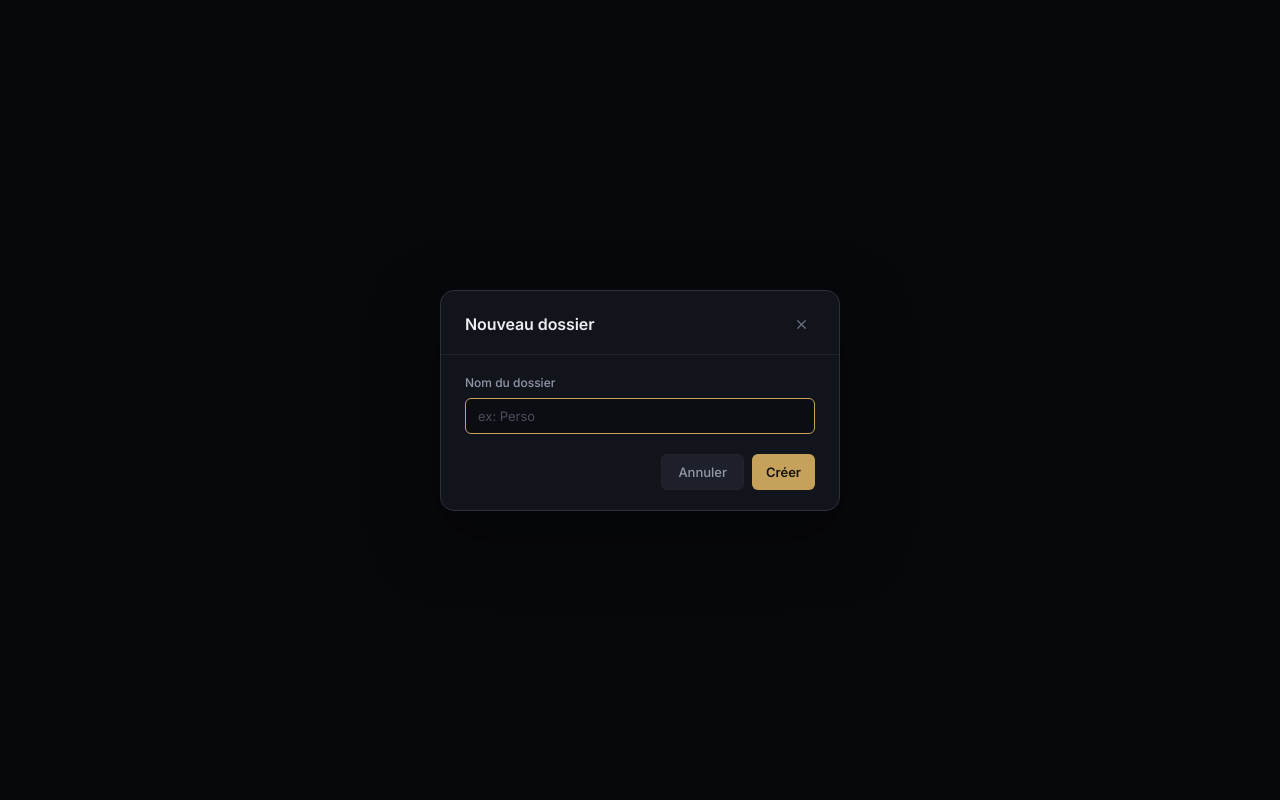
Test case: FolderModal › keeps the dialog open with the error when saving fails
Step 1. Type "Banque" into the field labelled "Nom du dossier" → [640, 416], box [465, 398, 815, 434]
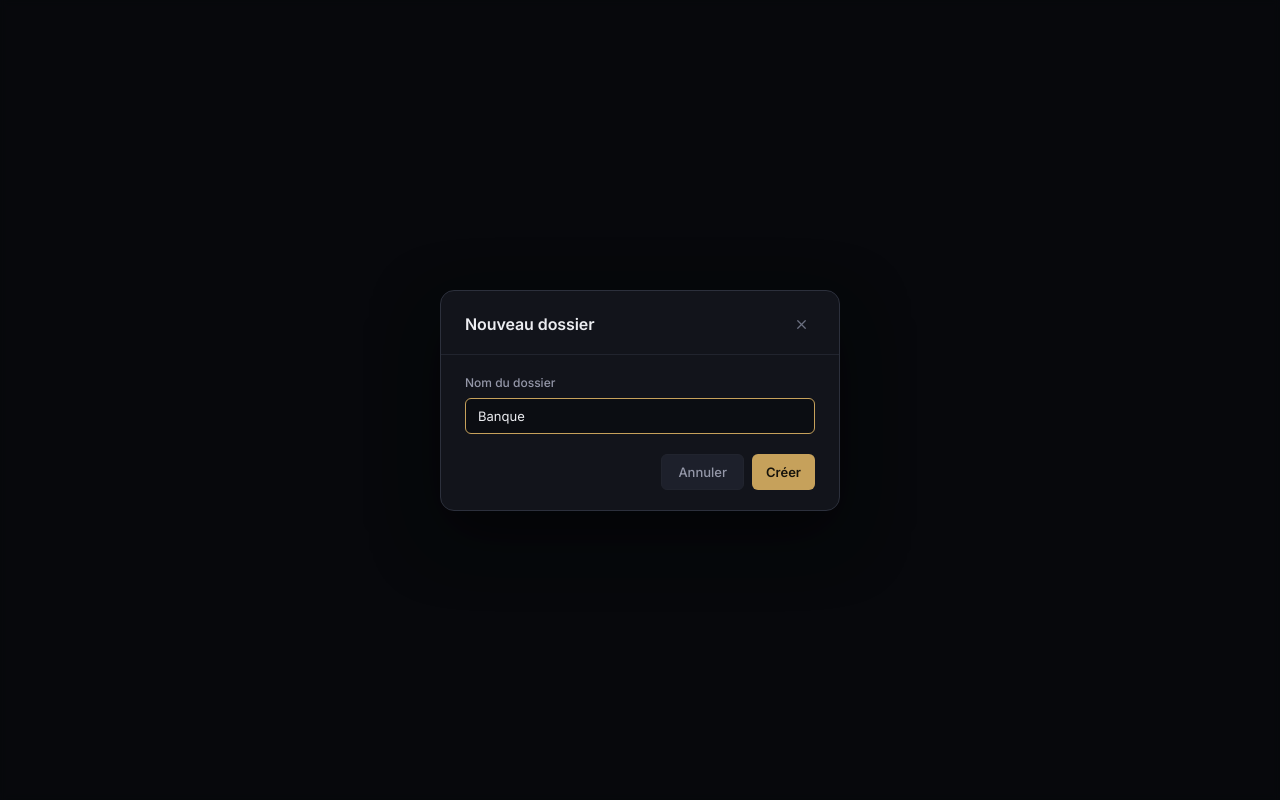
Step 2. Click the button "Créer" → [784, 472], box [752, 454, 815, 490]
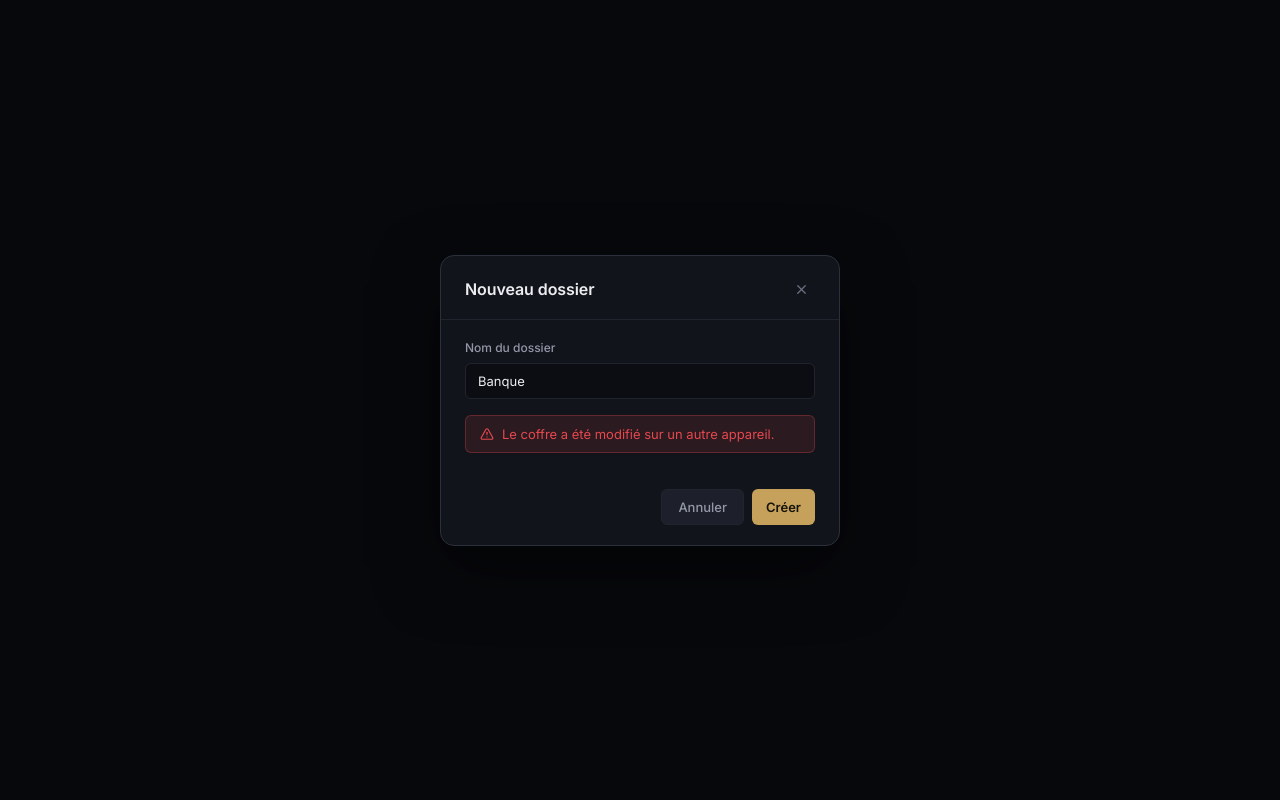
Result: the message shows "modifié sur un autre appareil" at [502, 426, 774, 442]
